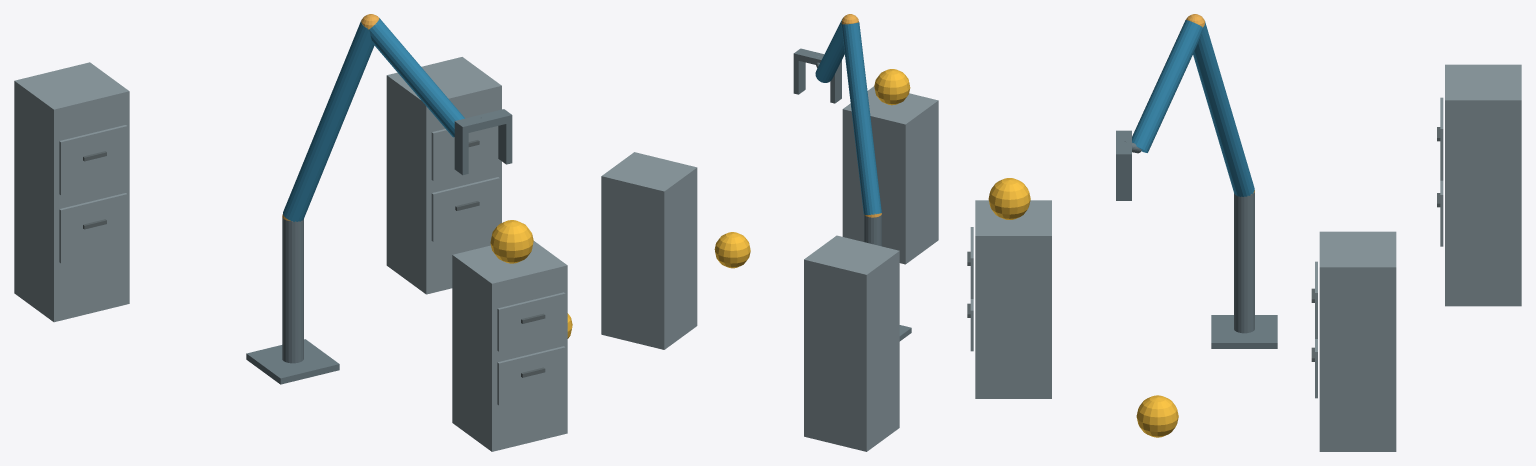
3 views of the same model, side by side, from view 1: azimuth 30°, elevation 25°; view 2: azimuth 150°, elevation 25°; view 3: azimuth 270°, elevation 25° (orthographic). The views are drawn at different scales.
Parts seen in each view (by area): view 1: cabinet_3 body, cabinet_1 body, cabinet_2 body, moving link 1, cabinet_3 drawer front.001, cabinet_3 drawer front, cabinet_2 drawer front, fixed post, cabinet_1 drawer front, cabinet_1 drawer front.001, moving link 2, cabinet_2 drawer front.001 (+5 smaller); view 2: cabinet_3 body, cabinet_2 body, cabinet_1 body, moving link 1, ball ball_2, released ball_1, moving link 2, fixed post, gripper finger 1, gripper bridge, gripper finger -1; view 3: cabinet_3 body, cabinet_2 body, cabinet_1 body, moving link 1, moving link 2, fixed post, pedestal, ball ball_2, released ball_1, gripper finger 1.
Part boxes in pixels (box(x1,y1,x2,y2)): cabinet_3 body: box(14, 62, 129, 322); cabinet_1 body: box(452, 241, 567, 451); cabinet_2 body: box(386, 57, 501, 294); moving link 1: box(283, 21, 374, 221); cabinet_3 drawer front.001: box(59, 125, 127, 195); cabinet_3 drawer front: box(59, 193, 127, 263); cabinet_2 drawer front: box(431, 177, 499, 241); fixed post: box(282, 218, 303, 363); cabinet_1 drawer front: box(497, 346, 565, 405); cabinet_1 drawer front.001: box(497, 292, 565, 351); moving link 2: box(369, 18, 464, 137); cabinet_2 drawer front.001: box(431, 126, 499, 180); cabinet_3 body: box(804, 235, 899, 451); cabinet_2 body: box(601, 152, 697, 349); cabinet_1 body: box(842, 86, 938, 264); moving link 1: box(841, 22, 881, 214); ball ball_2: box(714, 232, 750, 268); released ball_1: box(874, 69, 910, 105); moving link 2: box(815, 20, 844, 82); fixed post: box(864, 214, 881, 246); gripper finger 1: box(793, 59, 805, 94); gripper bridge: box(793, 48, 841, 66); gripper finger -1: box(830, 65, 841, 103); cabinet_3 body: box(1445, 64, 1521, 306); cabinet_2 body: box(1319, 231, 1396, 451); cabinet_1 body: box(975, 200, 1051, 398); moving link 1: box(1193, 21, 1254, 196); moving link 2: box(1132, 20, 1202, 152); fixed post: box(1234, 192, 1254, 333); pedestal: box(1211, 315, 1277, 348); ball ball_2: box(1136, 395, 1178, 437); released ball_1: box(988, 178, 1030, 219); gripper finger 1: box(1116, 161, 1131, 200).
Size of the model in its own units: 1.62 by 1.44 by 2.1.
